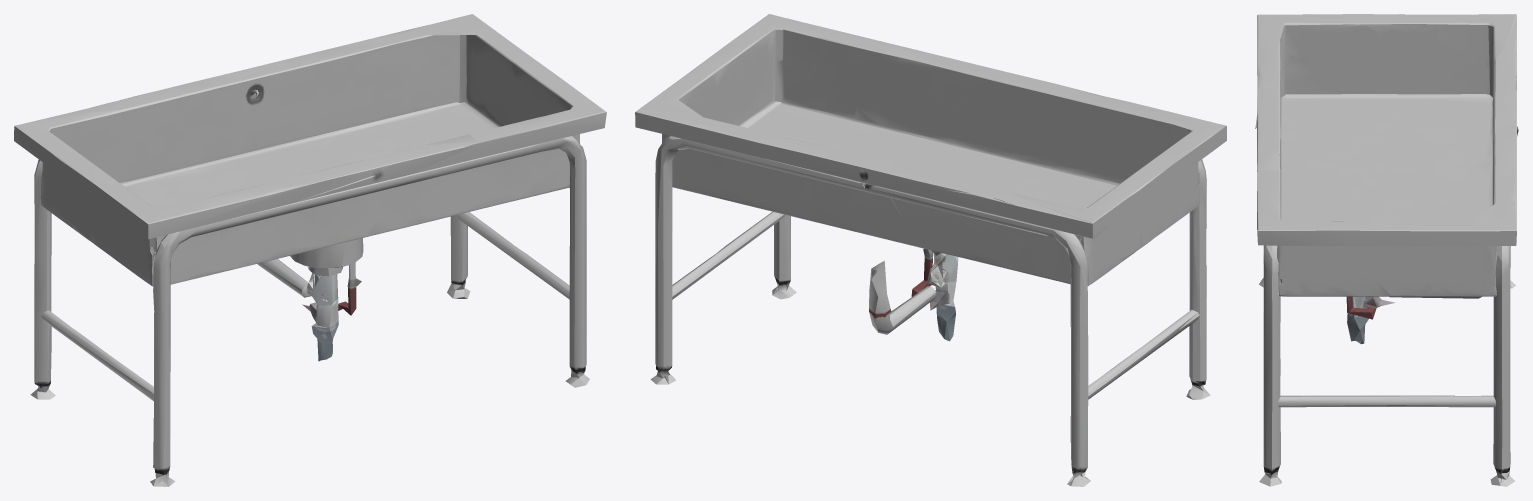
Rendered from sink-single.glb.
The picture shows the model from 3 angles, left to right: view 1: azimuth 30°, elevation 25°; view 2: azimuth 150°, elevation 25°; view 3: azimuth 270°, elevation 25°; orthographic projection. The views are drawn at different scales.
Size of the model in its own units: 1.2 by 0.6793 by 0.6168.
Materials: 1 (1 with a texture image).
